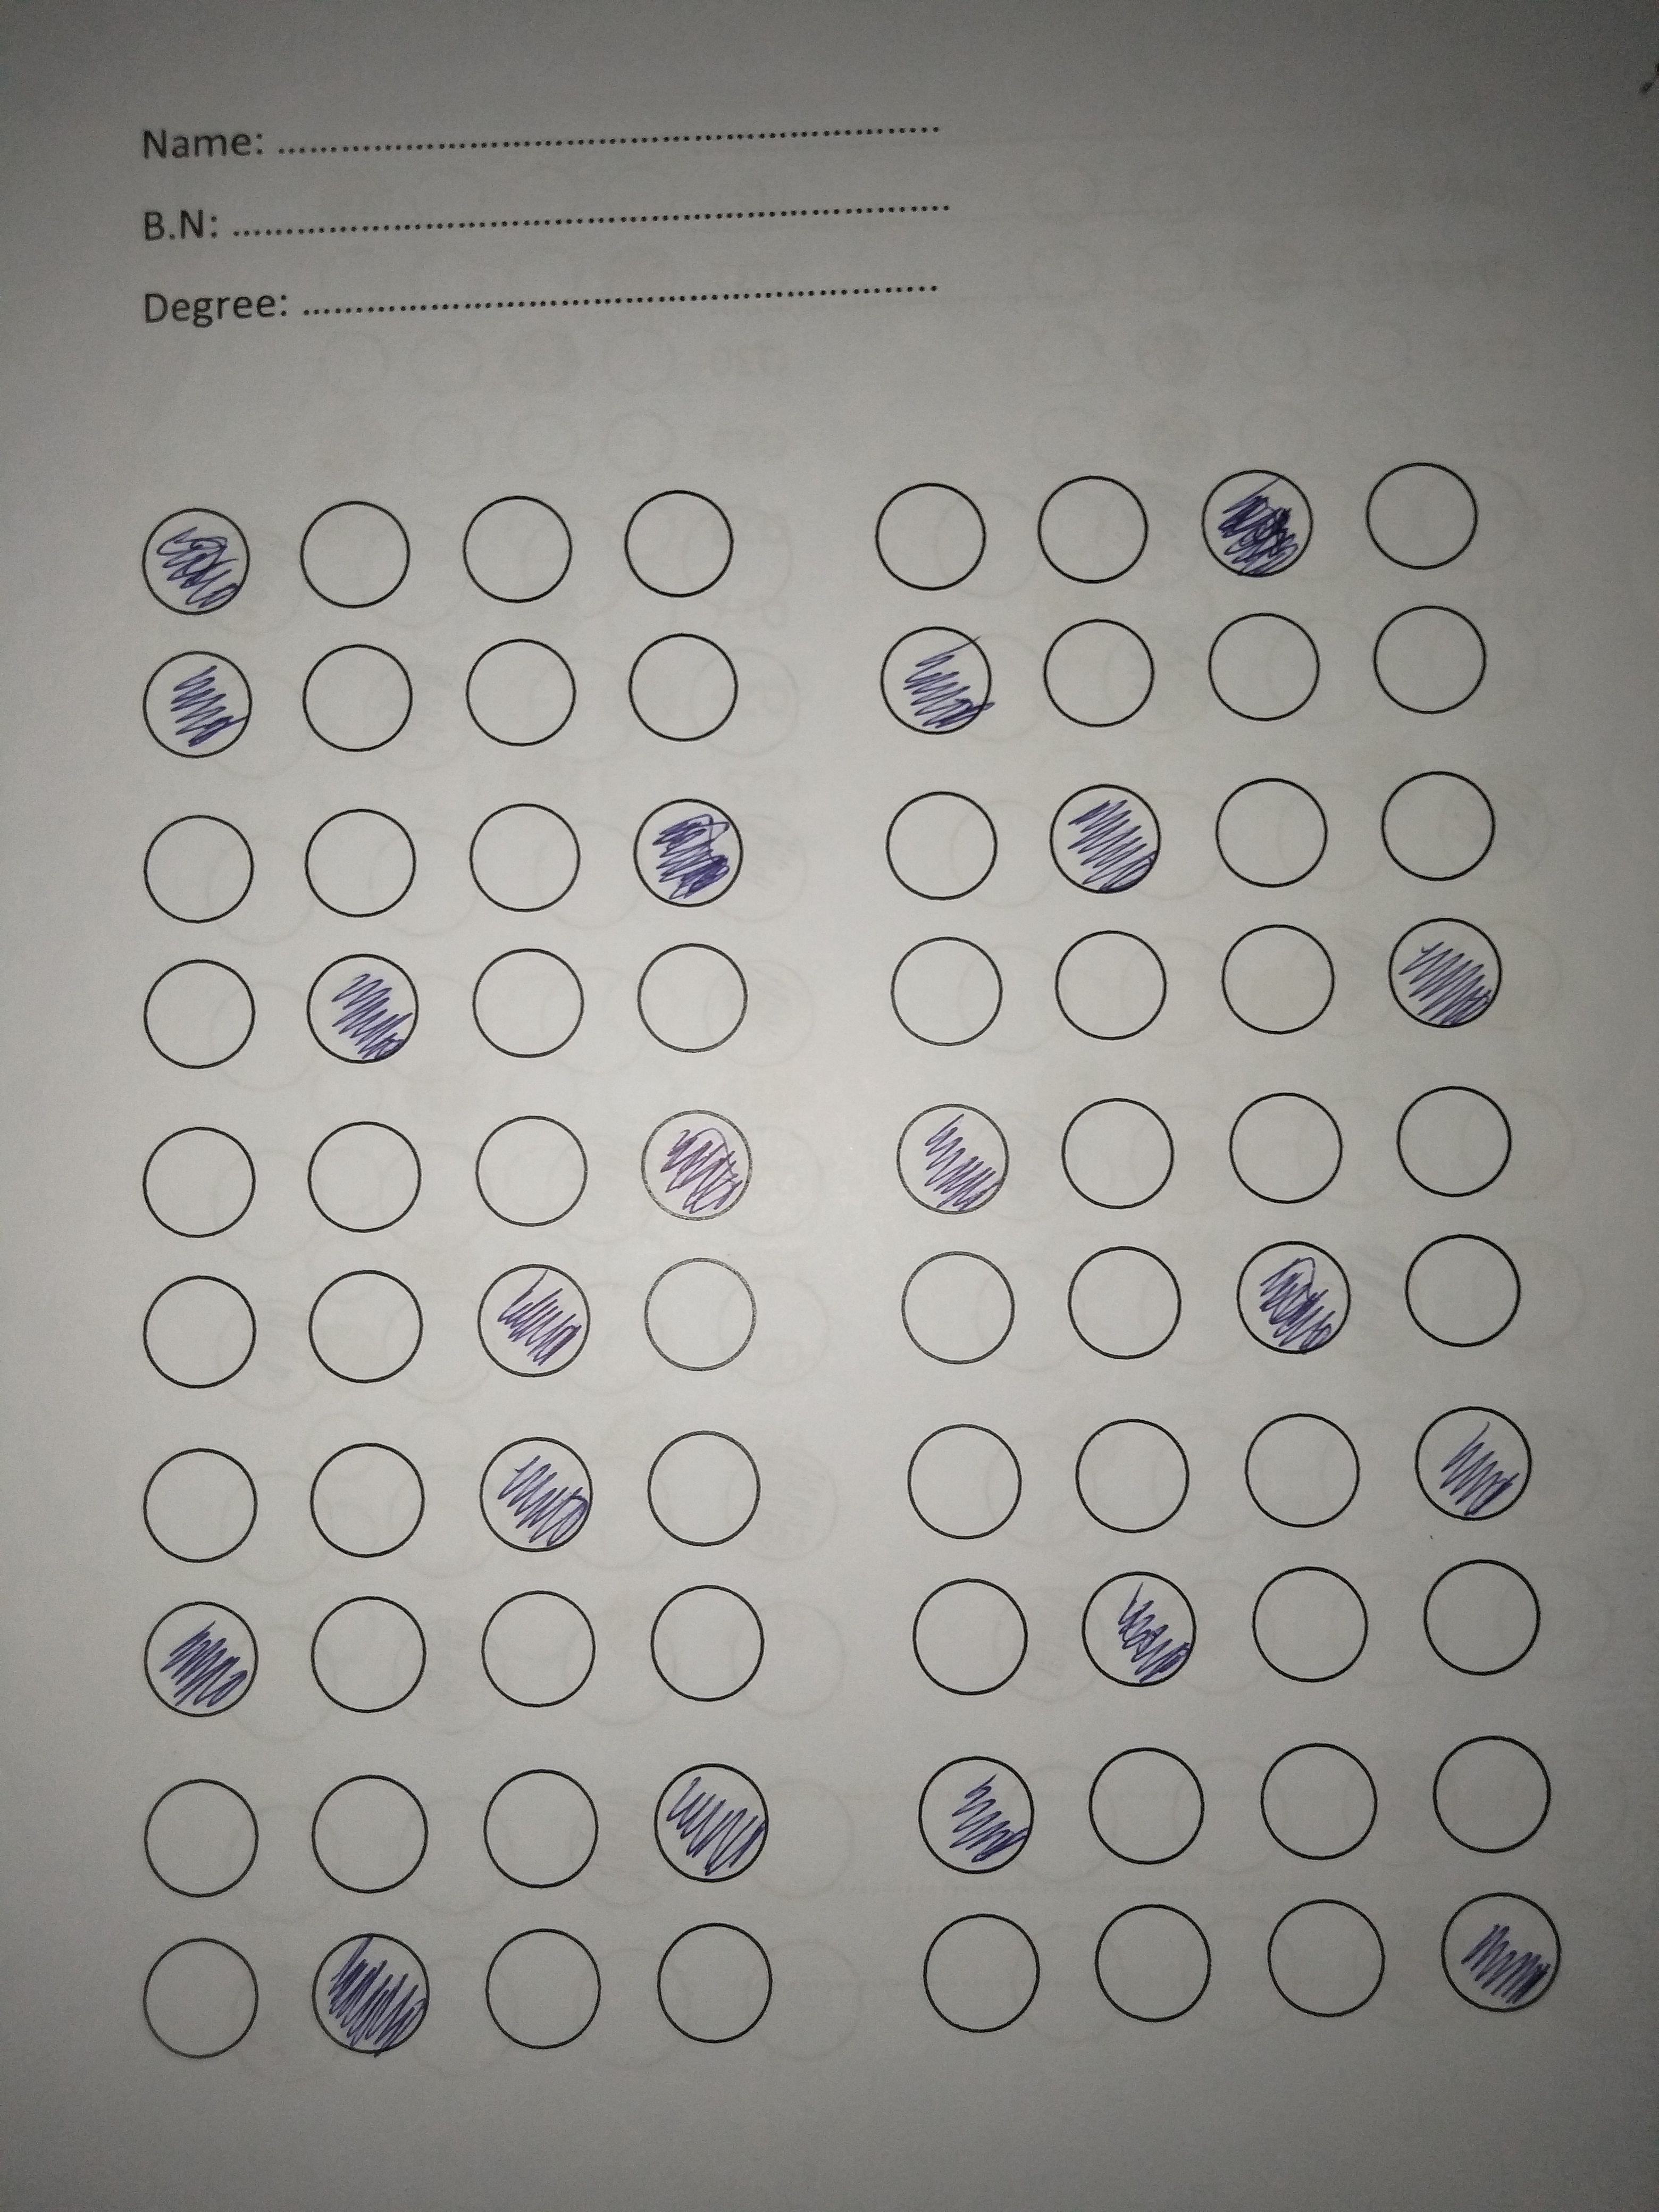not-c: (1347, 458, 1497, 578), (129, 1433, 261, 1569), (650, 1918, 782, 2050), (1410, 1554, 1546, 1681), (1253, 1737, 1384, 1867), (132, 1932, 261, 2064), (122, 953, 261, 1075), (1190, 610, 1331, 730), (1260, 1888, 1389, 2019), (474, 1923, 603, 2052), (641, 1578, 769, 1709), (1385, 1075, 1520, 1198), (279, 643, 425, 756), (903, 1573, 1032, 1700), (1087, 1897, 1216, 2024), (474, 1766, 605, 1892), (129, 806, 265, 927), (1246, 1561, 1373, 1688), (451, 491, 584, 613), (1225, 1082, 1351, 1209), (474, 1583, 599, 1709), (296, 799, 423, 923), (132, 1118, 260, 1242), (899, 1411, 1021, 1540), (868, 474, 993, 597), (915, 1909, 1040, 2033), (878, 932, 1006, 1054), (1086, 1740, 1208, 1867), (870, 782, 999, 902), (307, 1590, 430, 1714), (310, 1768, 430, 1895), (894, 1247, 1018, 1369), (1032, 465, 1152, 590), (640, 1247, 758, 1374), (636, 1428, 763, 1547), (1401, 1230, 1525, 1350), (141, 1775, 261, 1898), (1432, 1731, 1553, 1855), (1364, 597, 1490, 716), (1056, 1094, 1183, 1211), (1239, 1411, 1366, 1527), (455, 636, 587, 747), (139, 1266, 261, 1386), (284, 496, 413, 610), (1032, 617, 1161, 730), (629, 941, 749, 1061), (303, 1268, 425, 1386), (301, 1442, 425, 1559), (1066, 1242, 1185, 1362), (465, 942, 584, 1061), (624, 629, 744, 745), (469, 1111, 589, 1228), (462, 799, 584, 914), (619, 486, 744, 597), (1378, 759, 1493, 880), (301, 1118, 422, 1233), (1053, 927, 1169, 1043), (1209, 775, 1330, 888), (1213, 923, 1335, 1033), (1077, 1420, 1190, 1536)
taken-c: (647, 1756, 774, 1886), (911, 1749, 1039, 1876), (1438, 1890, 1568, 2013), (136, 1599, 265, 1723), (1075, 1566, 1202, 1689), (310, 1930, 434, 2055), (476, 1430, 596, 1557), (1412, 1404, 1539, 1524), (301, 944, 423, 1068), (476, 1259, 598, 1381), (890, 1096, 1012, 1216), (1232, 1237, 1356, 1355), (877, 618, 997, 738), (636, 1101, 755, 1223), (136, 646, 260, 763), (1382, 913, 1504, 1028), (1197, 465, 1319, 580), (1049, 775, 1166, 894), (139, 498, 254, 618), (631, 796, 746, 909)
